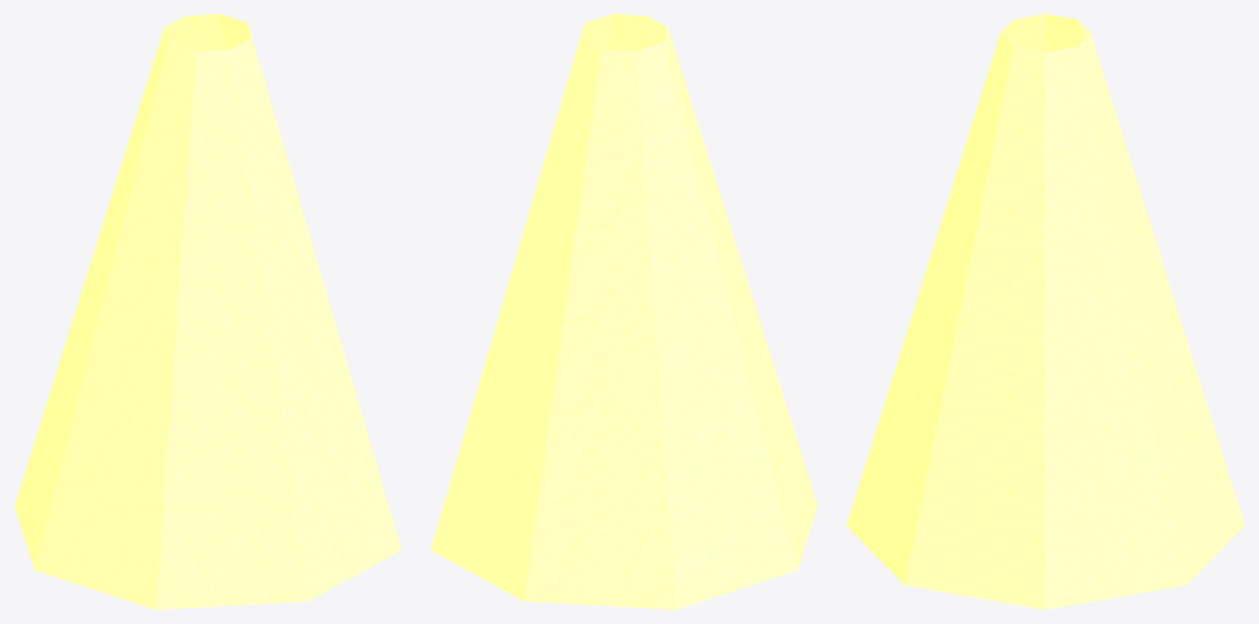
The model's file is env_lamp_cone.glb.
3 renders of one model, left to right at view 1: azimuth 30°, elevation 25°; view 2: azimuth 150°, elevation 25°; view 3: azimuth 270°, elevation 25°, orthographic.
Visible parts, largest first — view 1: env_lamp_cone; view 2: env_lamp_cone; view 3: env_lamp_cone.
Boxes of the visible parts, left/top/right/bottom form: env_lamp_cone: left=14, top=14, right=401, bottom=609; env_lamp_cone: left=430, top=14, right=817, bottom=609; env_lamp_cone: left=846, top=14, right=1244, bottom=609.
Size of the model in its own units: 4.4 by 6 by 4.4.
Materials: 1 (1 with a texture image).
